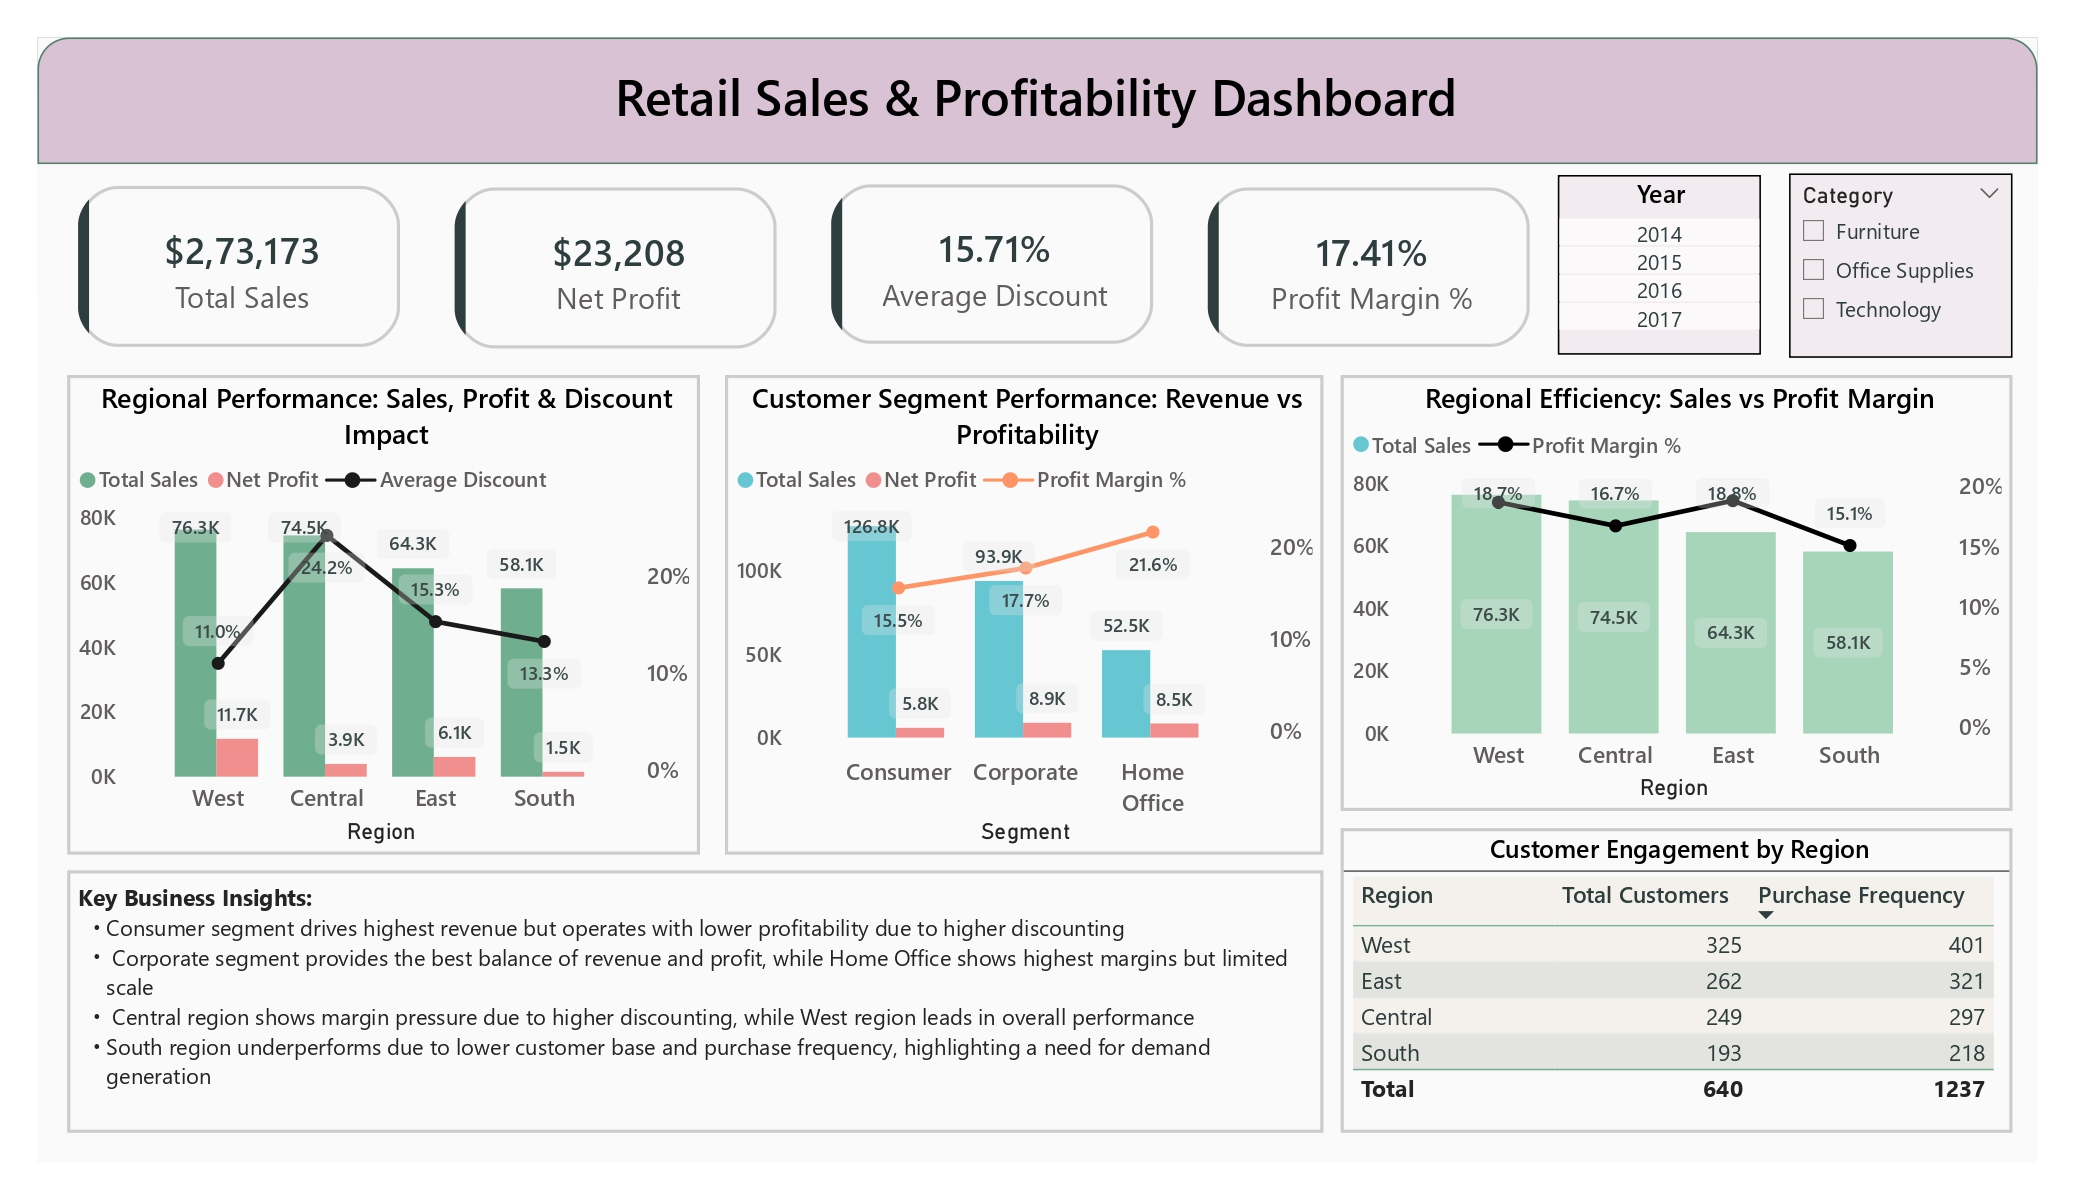

The dashboard page shown, as its layout file describes it:
{"tool":"powerbi","page":{"name":"Customer & Regional Performance","canvas":[1280,720],"ordinal":2},"visuals":[{"type":"shape","box":[0,0,1280.3,81],"z":0},{"type":"textbox","title":"Retail Sales & Profitability Dashboard","box":[293.7,15.1,690.2,52.1],"z":1000},{"type":"cardVisual","fields":{"Data":["superstore.Profit Margin %"]},"box":[741.8,89.3,220,116],"z":2000},{"type":"cardVisual","fields":{"Data":["superstore.Average Discount"]},"box":[500.9,86.5,220,116.8],"z":3000},{"type":"textbox","box":[19.2,533,803.6,167.6],"z":4000},{"type":"slicer","fields":{"Values":["superstore.Category"]},"box":[1120.9,86.5,142.9,118.1],"z":5000},{"type":"listSlicer","fields":{"Values":["Date Table.Year"]},"box":[972.6,87.9,130.5,115.4],"z":6000},{"type":"cardVisual","fields":{"Data":["superstore.Total Sales"]},"box":[19.2,87.9,220,116.8],"z":7000},{"type":"cardVisual","fields":{"Data":["Sum(superstore.Profit)"]},"box":[260.1,89.3,220,116.8],"z":8000},{"type":"lineClusteredColumnComboChart","title":"Regional Performance: Sales, Profit & Discount Impact","fields":{"Y":["Sum(superstore.Sales)","Sum(superstore.Profit)"],"Category":["superstore.Region"],"Y2":["superstore.Average Discount"]},"box":[19.2,215.7,405.2,307.7],"z":9000},{"type":"lineClusteredColumnComboChart","title":"Customer Segment Performance: Revenue vs Profitability","fields":{"Y":["superstore.Total Sales","Sum(superstore.Profit)"],"Y2":["superstore.Profit Margin %"],"Category":["superstore.Segment"]},"box":[439.6,215.7,383.3,307.7],"z":10000},{"type":"lineClusteredColumnComboChart","title":"Regional Efficiency: Sales vs Profit Margin","fields":{"Y":["superstore.Total Sales"],"Y2":["superstore.Profit Margin %"],"Category":["superstore.Region"]},"box":[833.8,215.7,430,278.9],"z":11000},{"type":"tableEx","title":"Customer Engagement by Region","fields":{"Values":["superstore.Region","superstore.Total Customers","superstore.Purchase Frequency"]},"box":[833.8,505.5,430,195.1],"z":12000}]}

Visuals, with their boxes on the page's 1280x720 design canvas (x1, y1, x2, y2). These are canvas units, not pixel positions in the 2075x1200 screenshot, which may show the page scaled, cropped or inside an application window:
shape: [0,0,1280,81]
"Retail Sales & Profitability Dashboard" textbox: [294,15,984,67]
cardVisual - superstore.Profit Margin %: [742,89,962,205]
cardVisual - superstore.Average Discount: [501,86,721,203]
textbox: [19,533,823,701]
slicer - superstore.Category: [1121,86,1264,205]
listSlicer - Date Table.Year: [973,88,1103,203]
cardVisual - superstore.Total Sales: [19,88,239,205]
cardVisual - Sum(superstore.Profit): [260,89,480,206]
"Regional Performance: Sales, Profit & Discount Impact" lineClusteredColumnComboChart: [19,216,424,523]
"Customer Segment Performance: Revenue vs Profitability" lineClusteredColumnComboChart: [440,216,823,523]
"Regional Efficiency: Sales vs Profit Margin" lineClusteredColumnComboChart: [834,216,1264,495]
"Customer Engagement by Region" tableEx: [834,506,1264,701]
